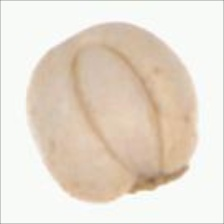L5: (71, 43, 165, 176), (118, 162, 192, 198)
L6: (25, 20, 200, 204)
